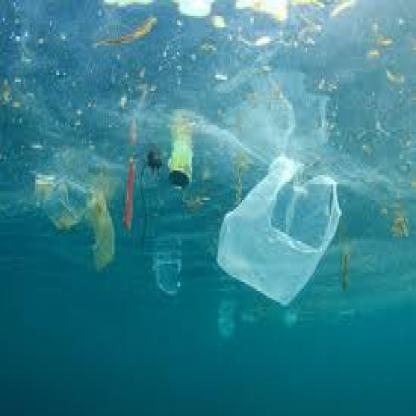Rác: (218, 147, 340, 304), (151, 255, 206, 325), (127, 152, 156, 270), (42, 178, 85, 257), (91, 191, 118, 284), (165, 127, 192, 178)
